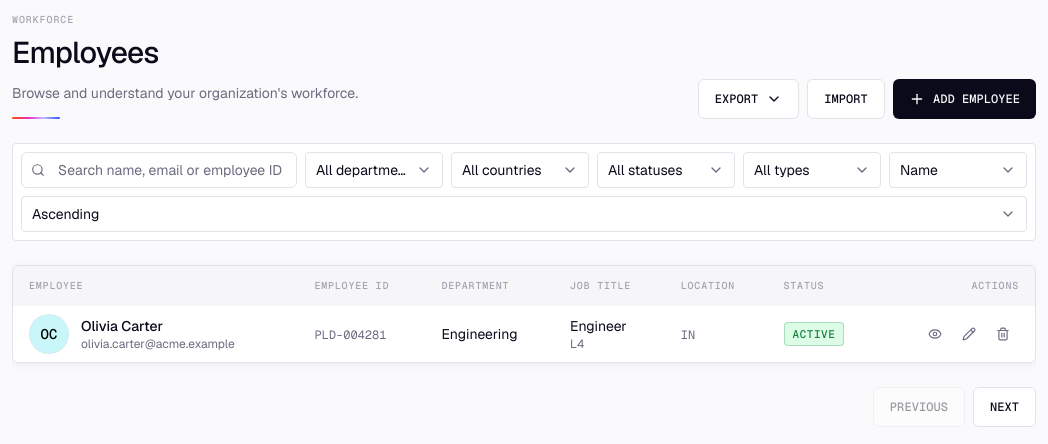
Test: employee directory › navigates Next then Previous back to the first page
Expected: the text "Olivia Carter" is shown, x1=81 y1=317 x2=163 y2=335
Expected: the button "Previous" is disabled, x1=873 y1=387 x2=965 y2=427
Click the button "Next" at {"x": 1004, "y": 407}, box x1=973 y1=387 x2=1036 y2=427
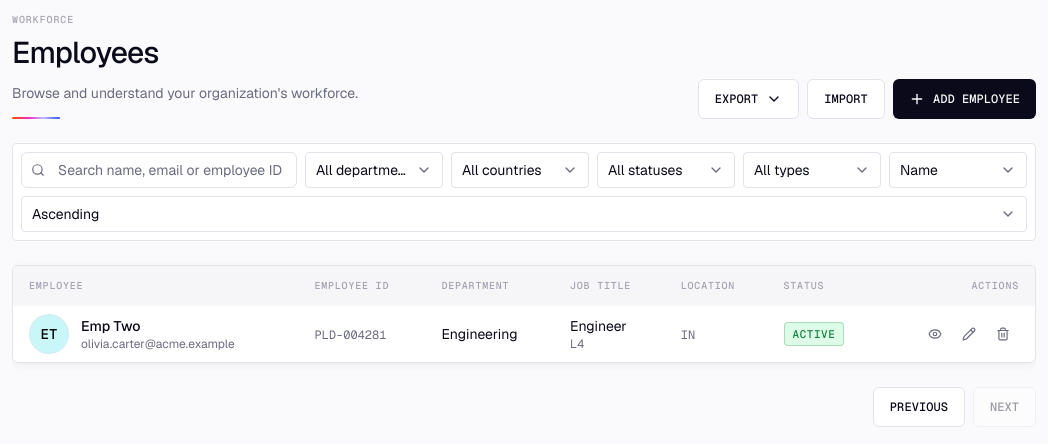
Now the text "Emp Two" is shown, box x1=81 y1=317 x2=140 y2=335
Now the button "Previous" is enabled
Now the button "Next" is disabled, box x1=973 y1=387 x2=1036 y2=427
Click the button "Previous" at {"x": 919, "y": 407}, box x1=873 y1=387 x2=965 y2=427
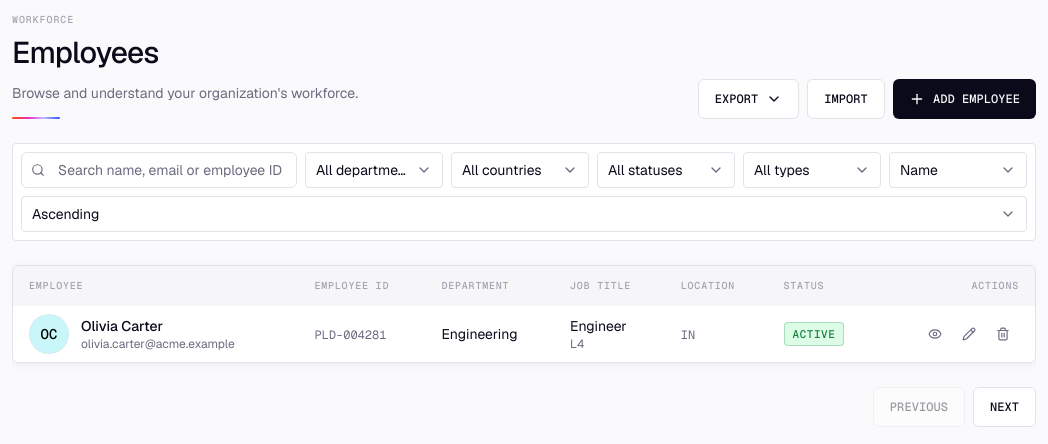
Now the text "Olivia Carter" is shown, box x1=81 y1=317 x2=163 y2=335
Now the button "Previous" is disabled, box x1=873 y1=387 x2=965 y2=427
